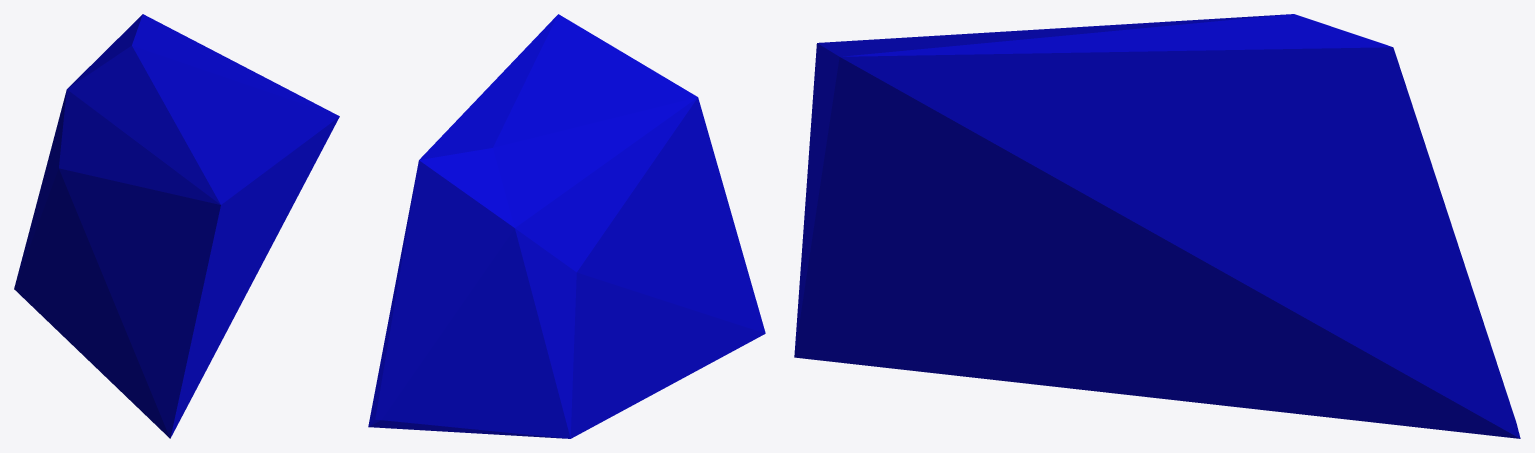
File: shoulder-roll-housing-mirror_convex_piece_009.obj
3 renders of one model, left to right at view 1: azimuth 30°, elevation 25°; view 2: azimuth 150°, elevation 25°; view 3: azimuth 270°, elevation 25°, orthographic. The views are drawn at different scales.
Size of the model in its own units: 0.0175 by 0.0244 by 0.0356.
